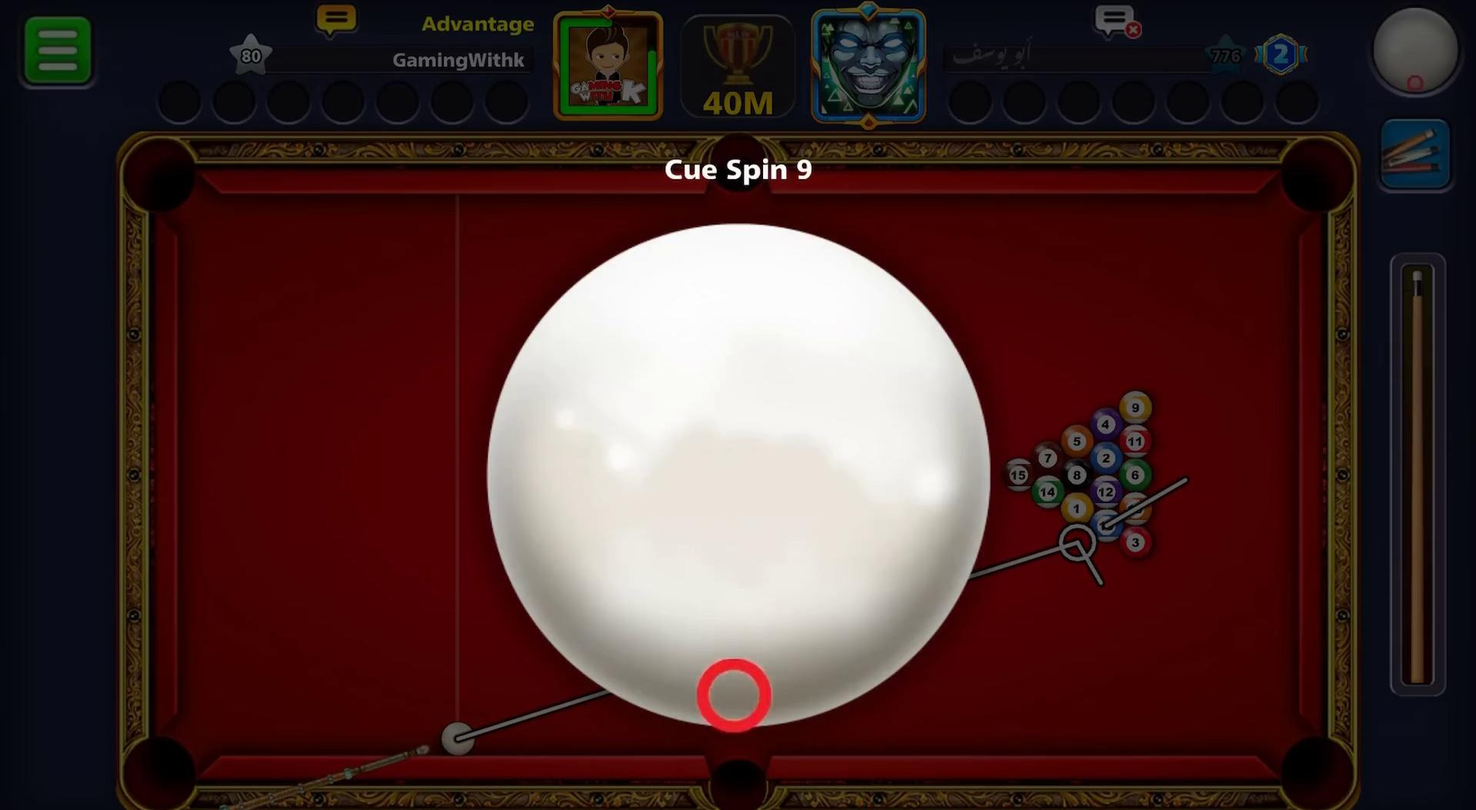Ball: (1116, 523, 1159, 562), (1115, 424, 1156, 462), (1117, 388, 1156, 427), (1087, 473, 1125, 511), (1116, 491, 1155, 528), (1085, 440, 1123, 476), (1059, 420, 1095, 457), (1088, 507, 1123, 545), (1119, 457, 1155, 493), (1088, 404, 1123, 441), (1058, 458, 1095, 493), (1060, 492, 1095, 527), (1001, 457, 1034, 493), (1032, 475, 1065, 511), (1032, 440, 1064, 477)
Force: (1394, 249, 1450, 691)
Guideline: (1099, 473, 1192, 531), (1057, 523, 1100, 567)
Hole: (1259, 104, 1371, 231), (1257, 709, 1371, 810), (111, 719, 231, 810), (118, 122, 216, 232), (702, 102, 780, 213), (698, 729, 782, 810)
Play_Area: (179, 191, 1299, 754)
Spin: (482, 220, 995, 741), (1362, 5, 1471, 103)
White: (437, 719, 479, 760)
